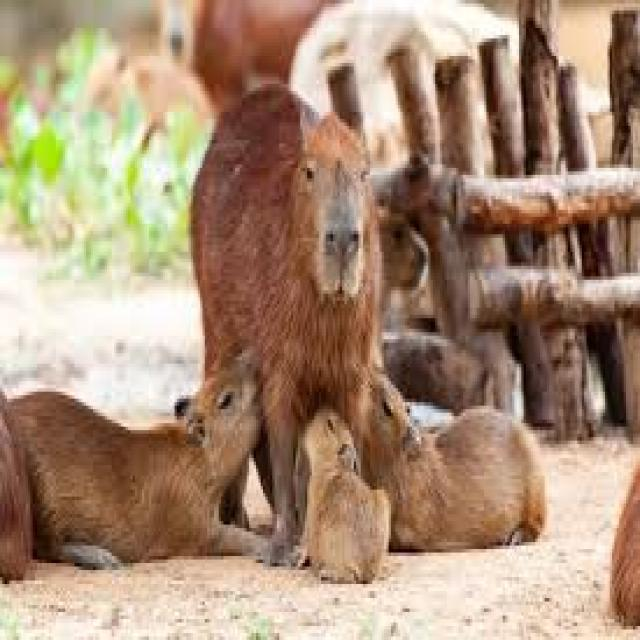capy: (193, 83, 377, 466), (0, 367, 275, 570), (365, 379, 551, 555), (296, 402, 392, 586)
